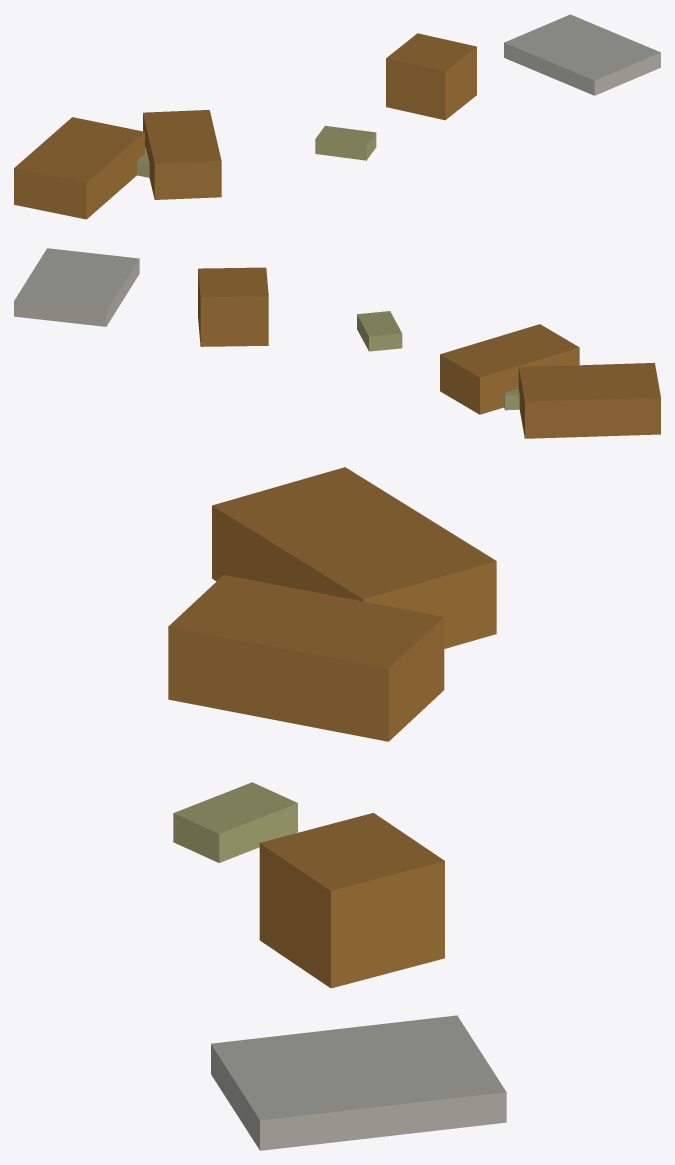
Rendered from SM_BarricadaCivil_v1_Muebles_e3_Brecha_LOD1.fbx.
3 views of the same model, one above another, from view 1: azimuth 30°, elevation 25°; view 2: azimuth 150°, elevation 25°; view 3: azimuth 270°, elevation 25° (orthographic). The views are drawn at different scales.
Visible parts, largest first — view 1: SM_barricada_civil_v7_LOD1; view 2: SM_barricada_civil_v7_LOD1; view 3: SM_barricada_civil_v7_LOD1.
Part boxes in pixels (box(x1,y1,x2,y2)): SM_barricada_civil_v7_LOD1: box(14, 14, 660, 219); SM_barricada_civil_v7_LOD1: box(14, 248, 660, 438); SM_barricada_civil_v7_LOD1: box(168, 467, 506, 1150).
Size of the model in its own units: 10.75 by 0.8 by 2.52.
